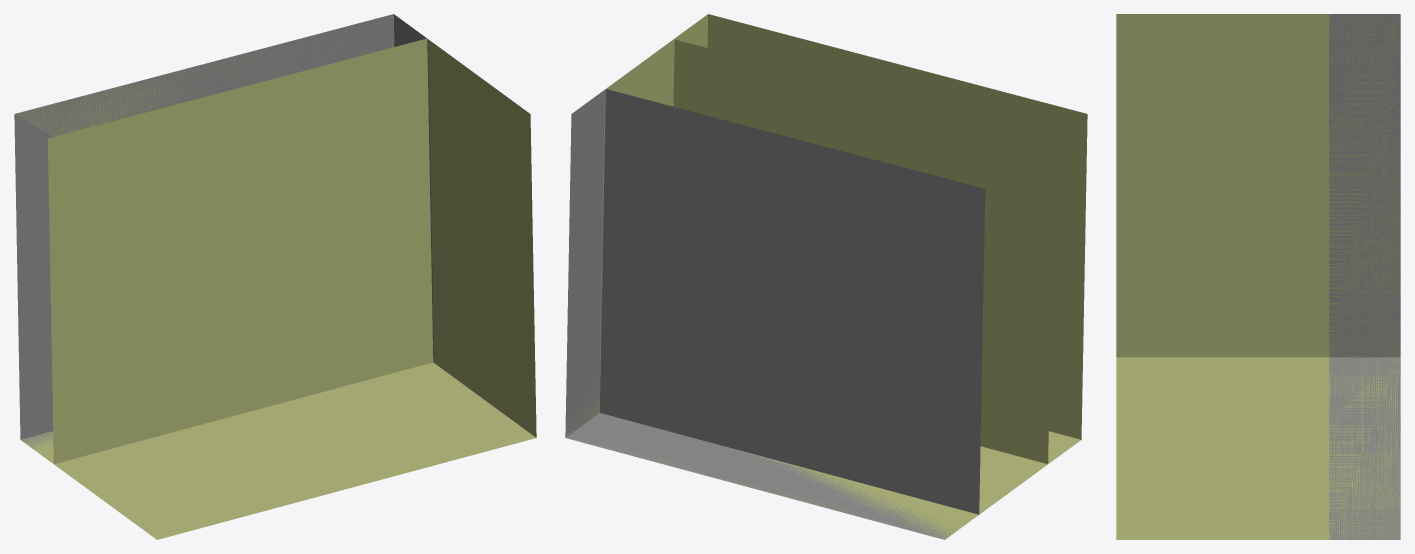
3 renders of one model, left to right at view 1: azimuth 30°, elevation 25°; view 2: azimuth 150°, elevation 25°; view 3: azimuth 270°, elevation 25°, orthographic. The views are drawn at different scales.
Visible parts, largest first — view 1: 0_1_2_0_3_0_2_3_1_2; view 2: 0_1_2_0_3_0_2_3_1_2; view 3: 0_1_2_0_3_0_2_3_1_2.
Part boxes in pixels (x1,y1,x2,y2): 0_1_2_0_3_0_2_3_1_2: [14, 14, 536, 539]; 0_1_2_0_3_0_2_3_1_2: [565, 14, 1087, 539]; 0_1_2_0_3_0_2_3_1_2: [1116, 14, 1400, 539].
Bounding box in the file's own units: 19.38 × 16.09 × 11.91.
